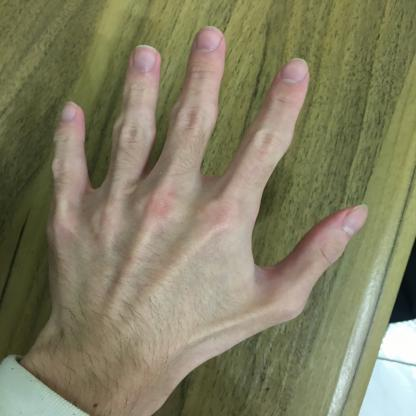bare_hand: (30, 13, 384, 392)
